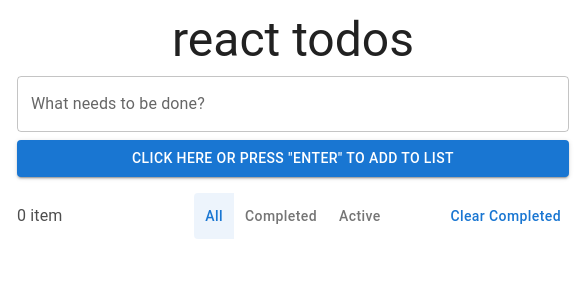
App › should add task to list when pressing enter
Type "New Task1" into the field labelled "What needs to be done?" at (293, 104), box [17,76,569,132]
Then press Enter
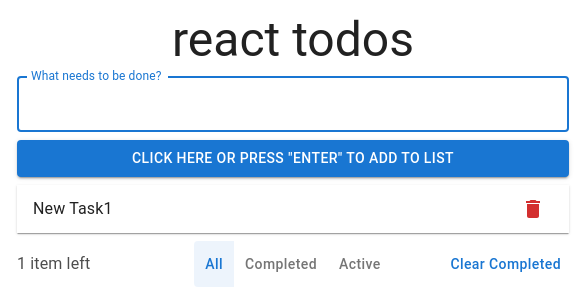
Expected: the text "New Task1" is shown, [33,198,113,218]
